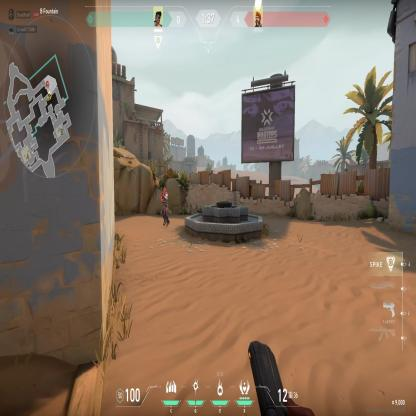enemy: (160, 187, 170, 228)
